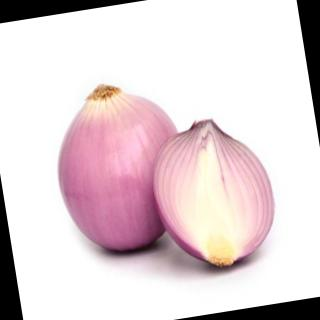Bawang Merah: (42, 71, 200, 267), (141, 109, 287, 282)
